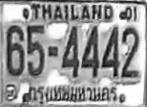2: (122, 26, 140, 78)
4: (60, 25, 78, 76), (81, 25, 98, 77), (101, 25, 118, 76)
5: (26, 24, 44, 76)
6: (6, 24, 24, 76)
BKK: (28, 85, 118, 104)
